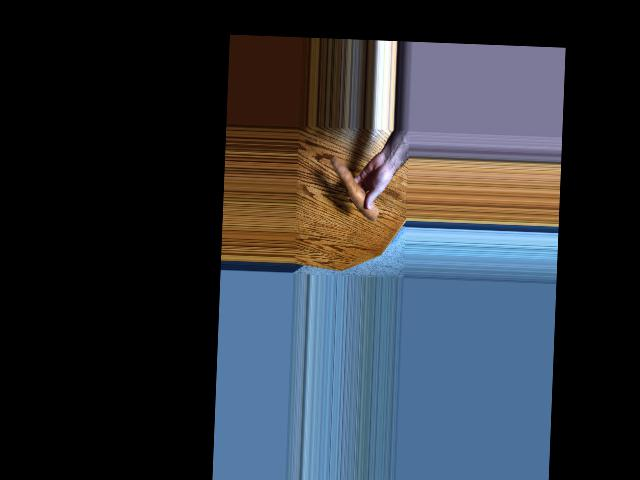sweet_potato: (330, 157, 382, 215)
